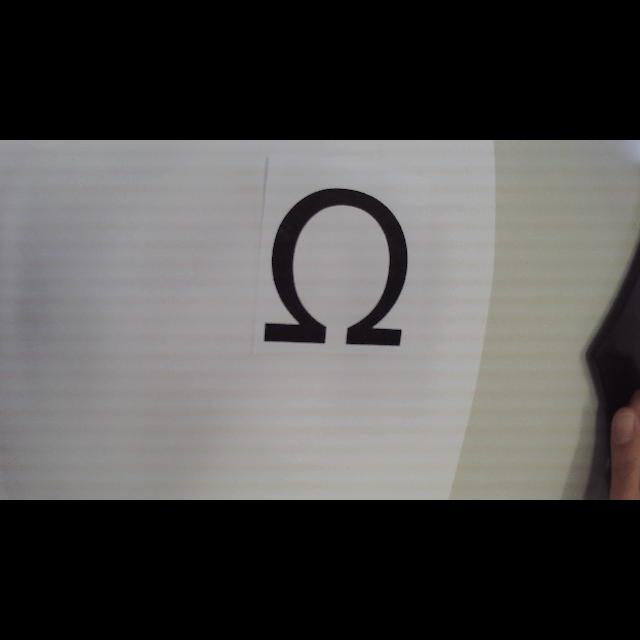OMEGA: (264, 188, 410, 348)
